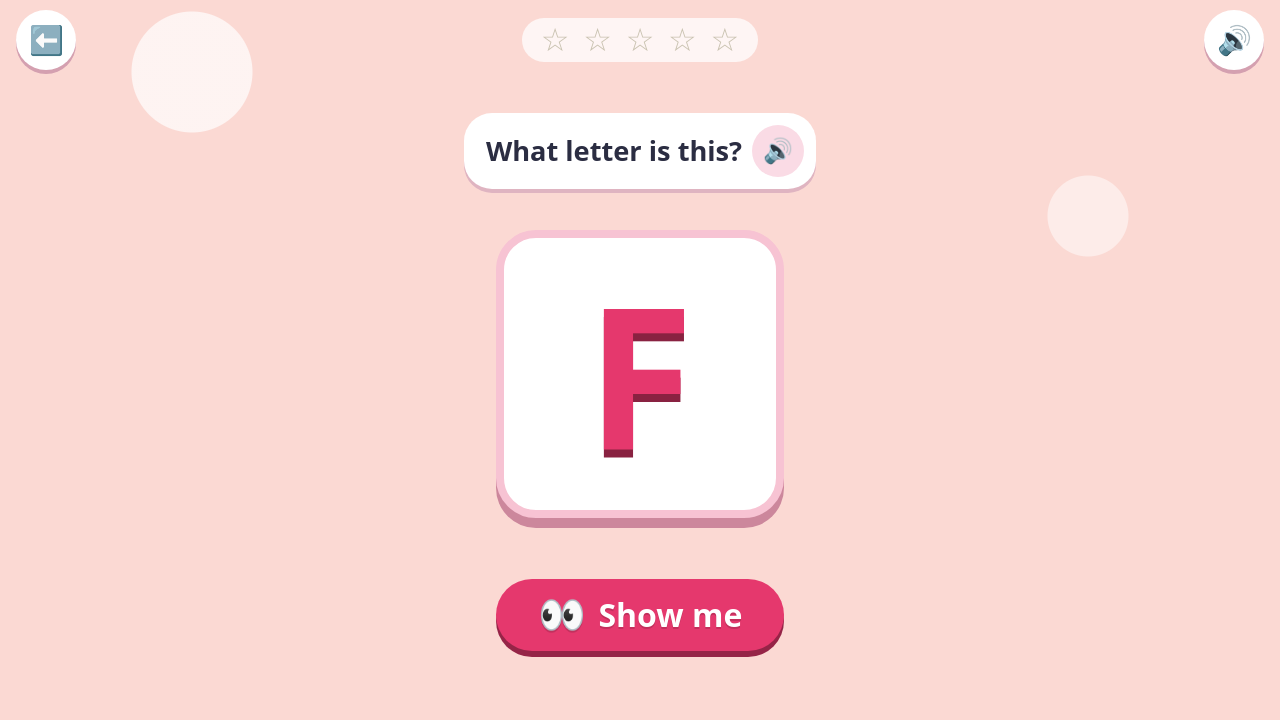
Test: SayGame › reveals the answer with a sparkle, a picture and a star
Click the button "👀 Show me" at (640, 615), box [496,579,784,651]
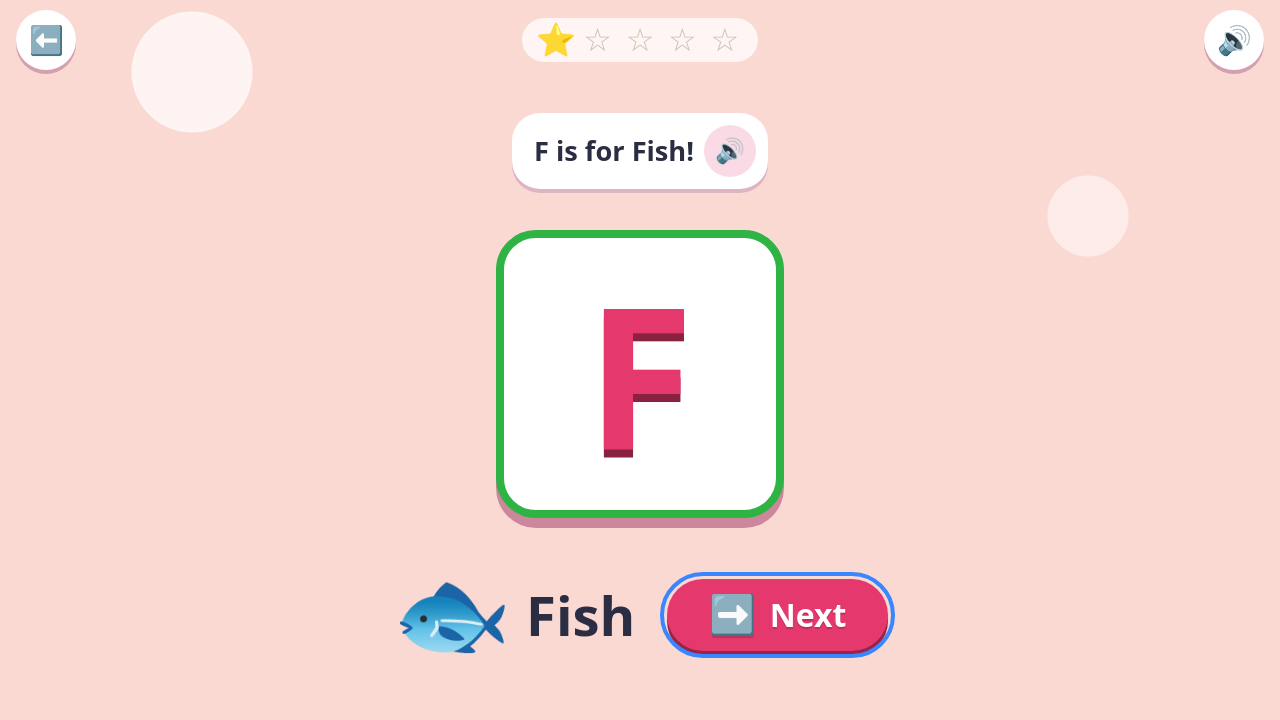
expect the element showing "🐟 Fish" is shown: met, box [392,567,635,663]
expect the picture named "1 of 5 stars" is shown: met, box [522,18,758,62]
expect the button "Show me" is gone: met
